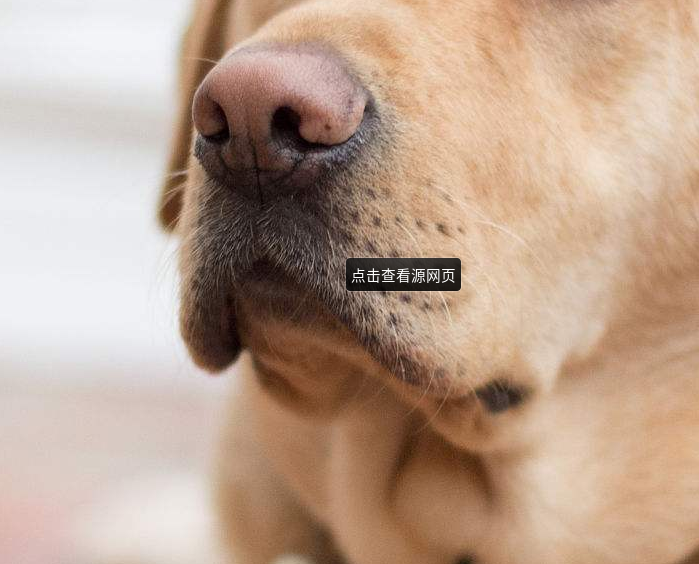nose: (188, 54, 369, 193)
